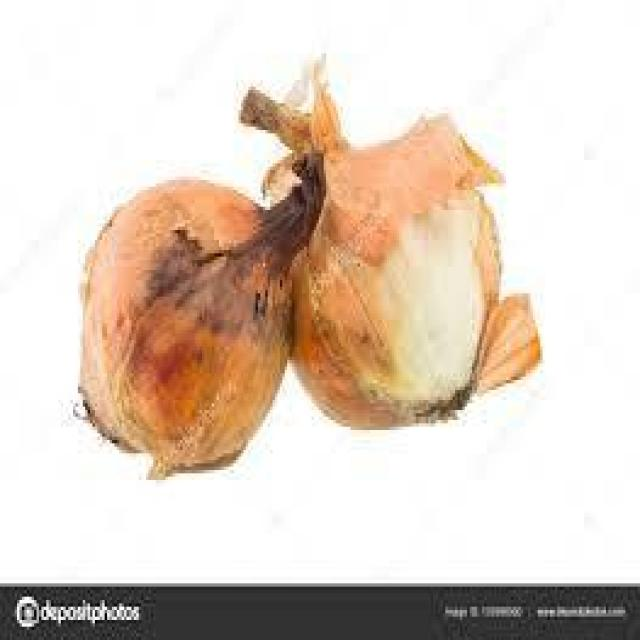Onion: (238, 83, 548, 440), (71, 147, 331, 490)
